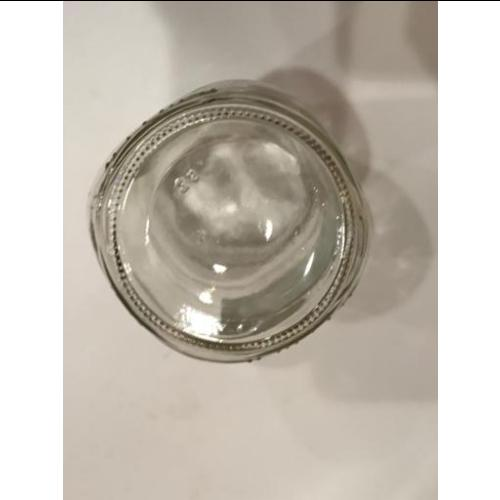glass: (89, 86, 370, 363)
